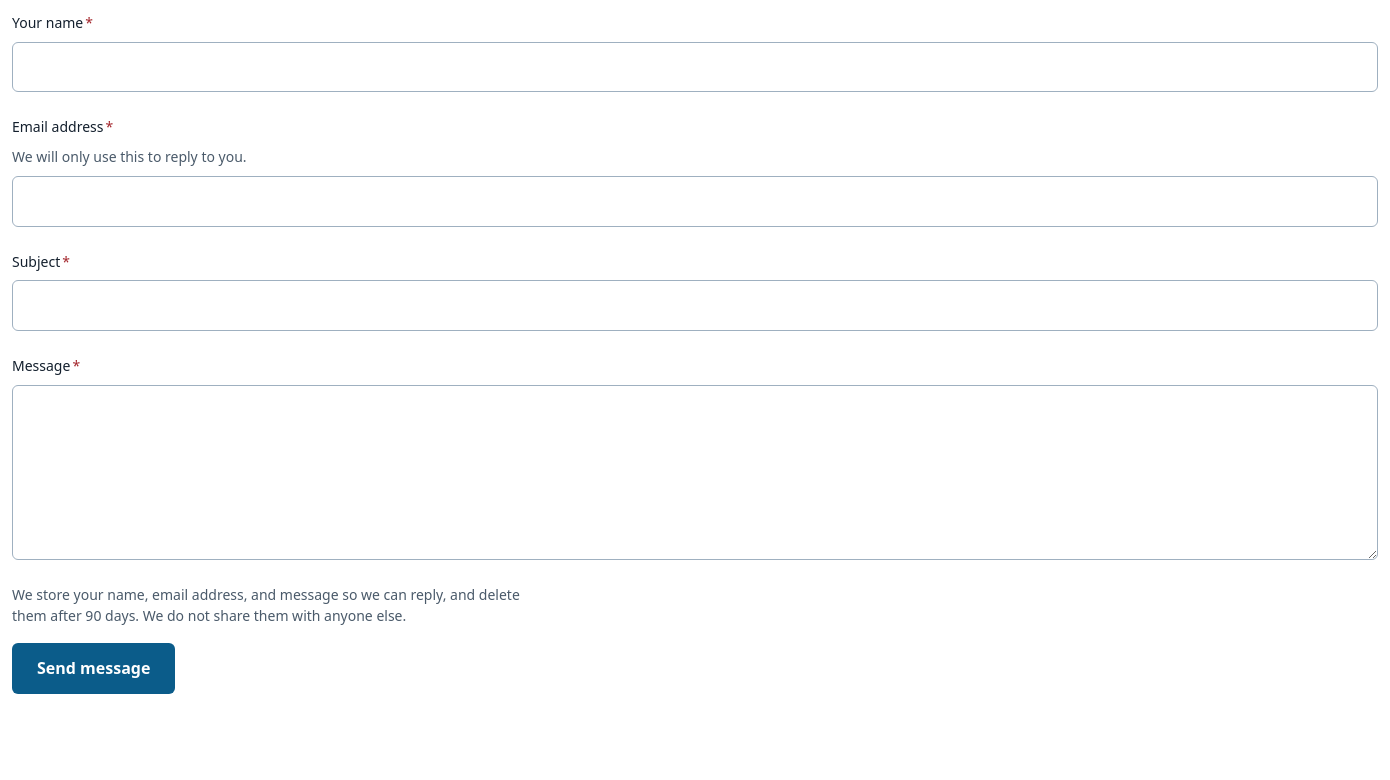
the loading state waits 150ms (FR-027a) › shows it once the threshold passes
The image size is (1390, 780).
Type "Amina Farouk" into the field labelled "Your name*" at [695, 67], box [12,42,1378,92]
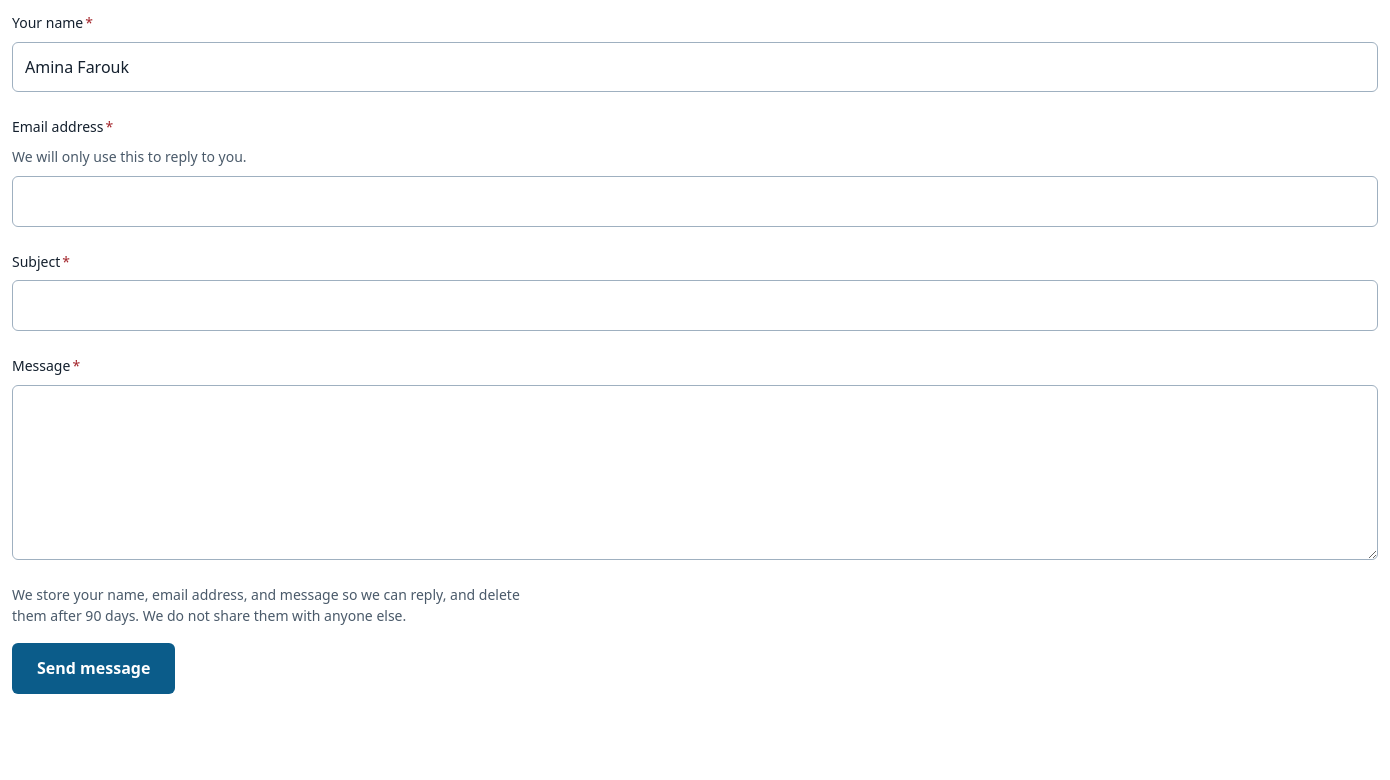
Type "amina@example.com" into the field labelled "Email address*" at [695, 201], box [12,176,1378,227]
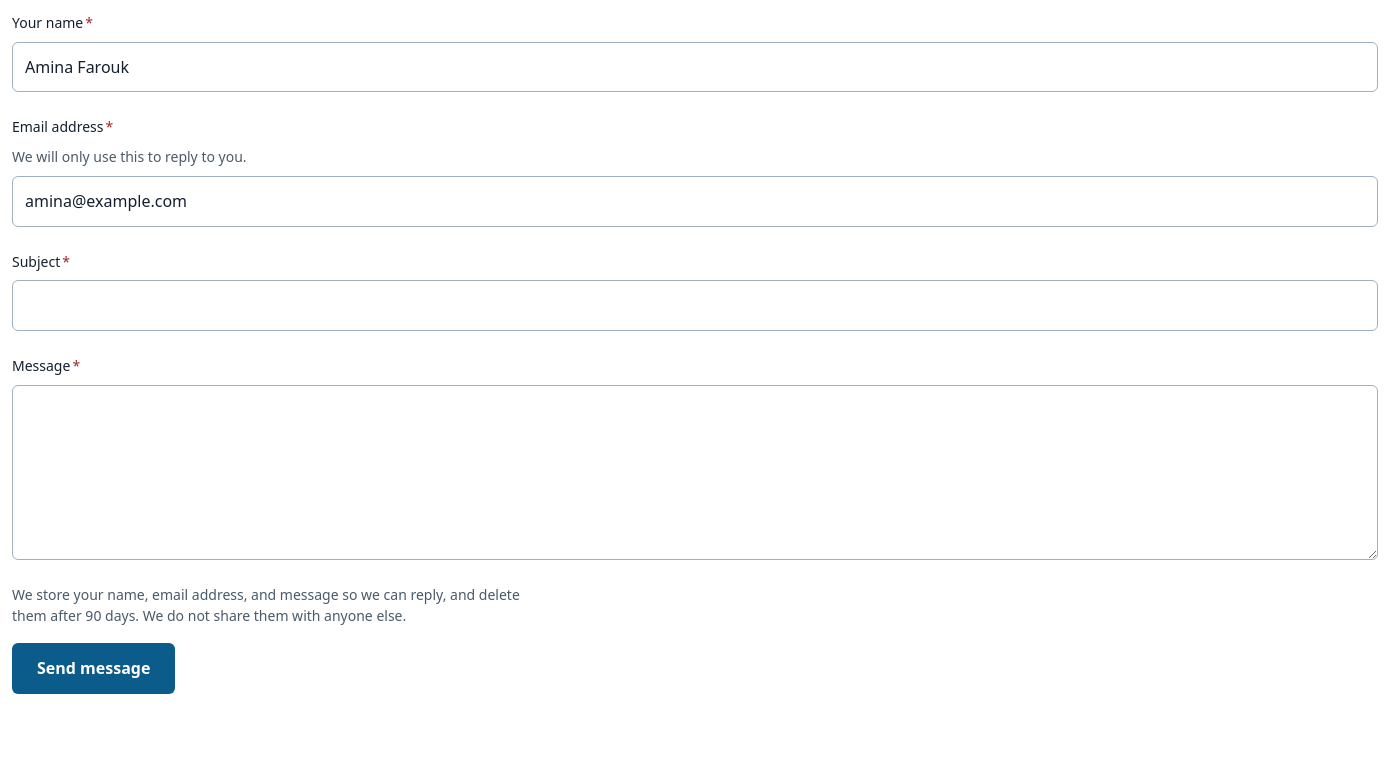
Type "Approvals" into the field labelled "Subject*" at [695, 306], box [12,280,1378,331]
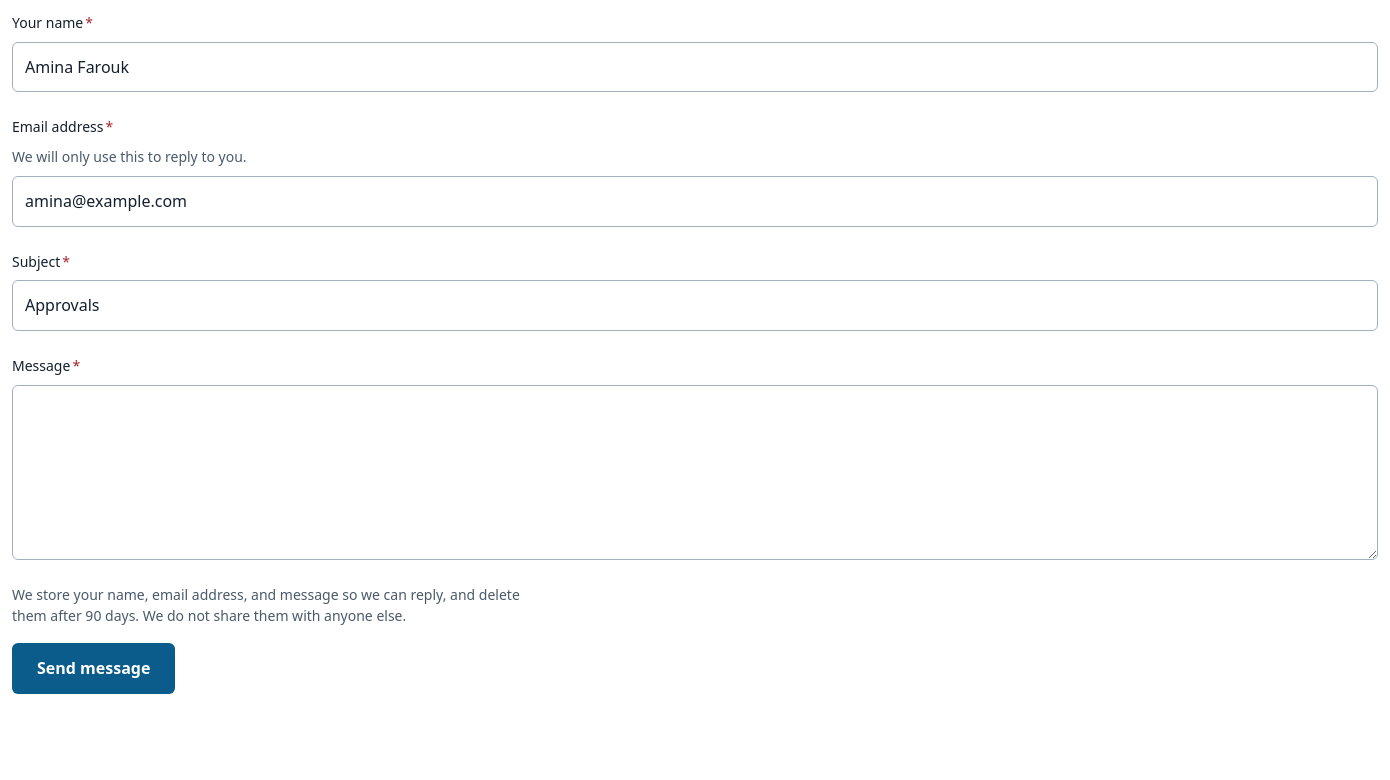
Type "We have twelve approval steps and no record of who signed what." into the text box labelled "Message*" at [695, 472], box [12,385,1378,560]
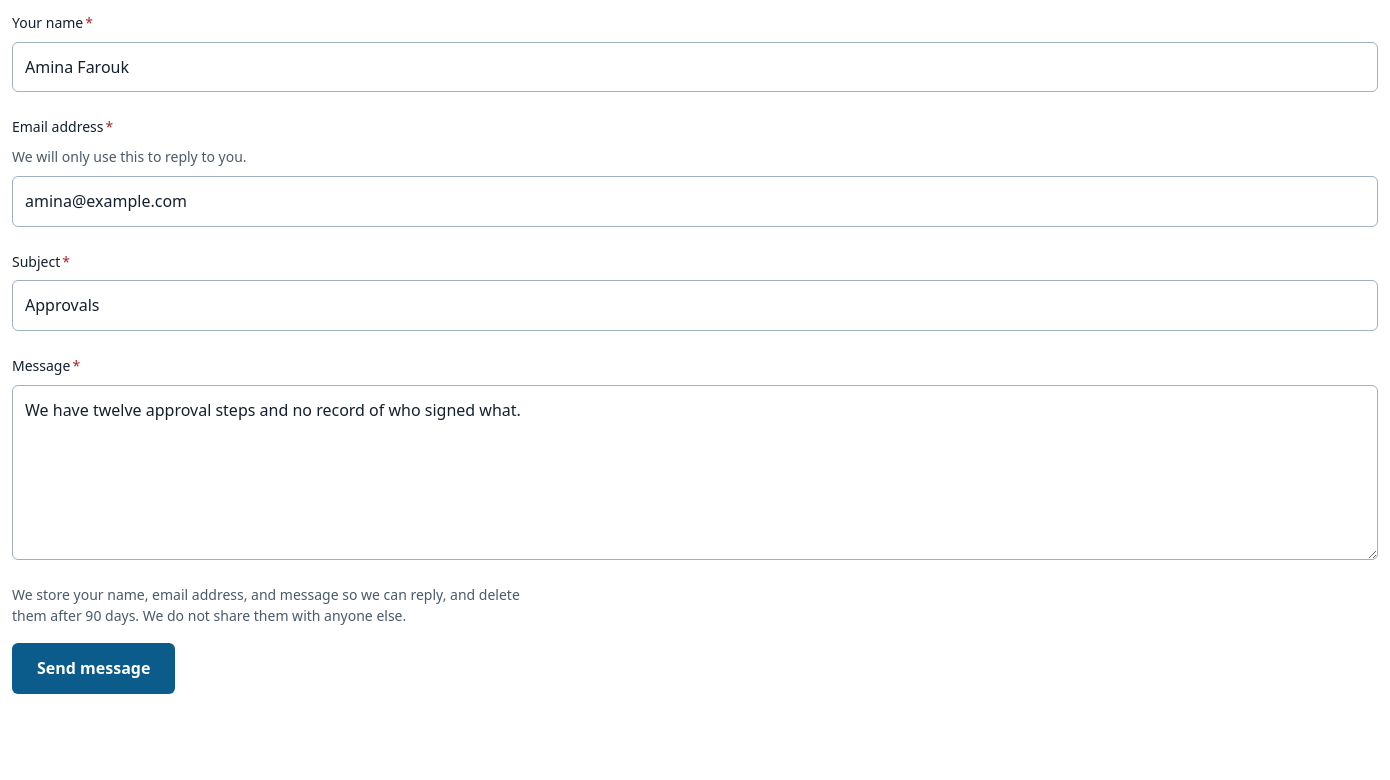
Submit the form named "Contact form"
Wait 200 ms
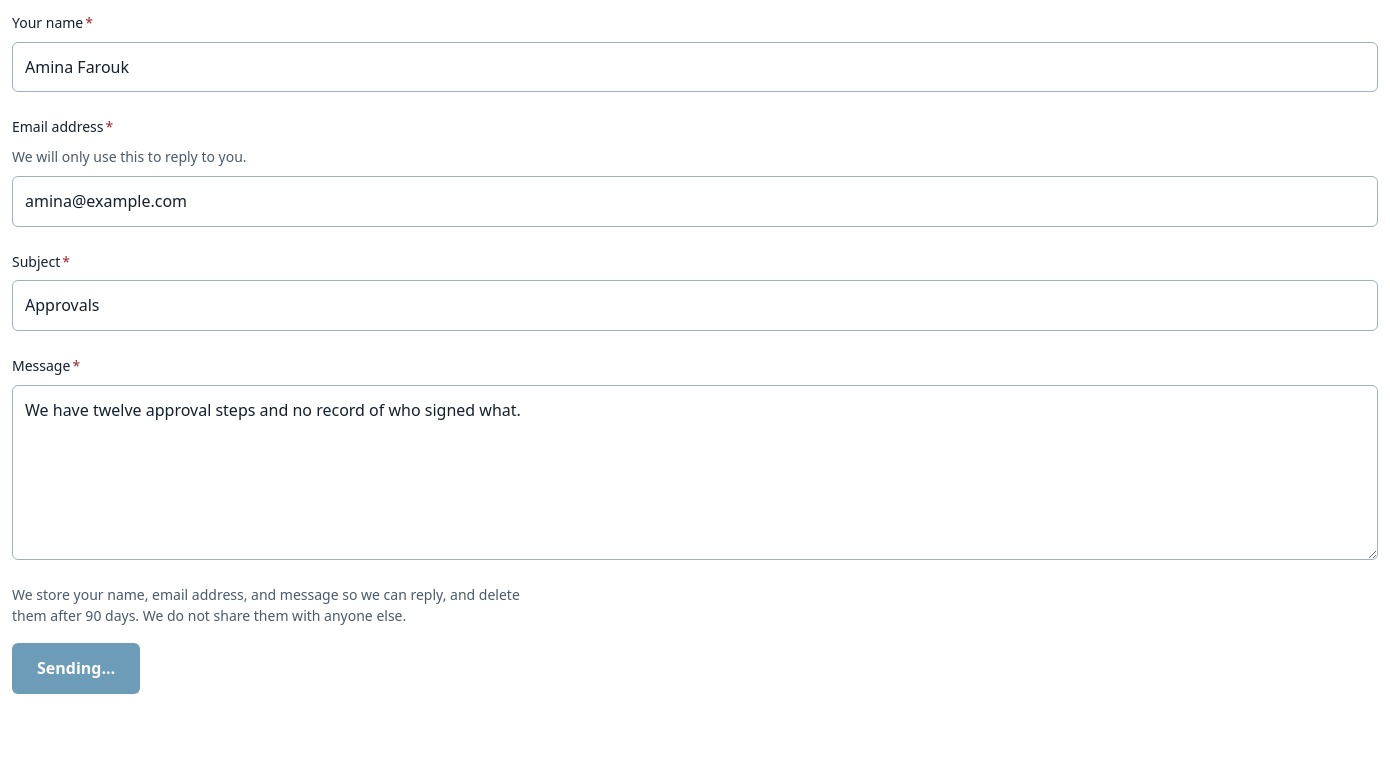
Result: the button "Sending…" is shown at [12,643,140,694]
